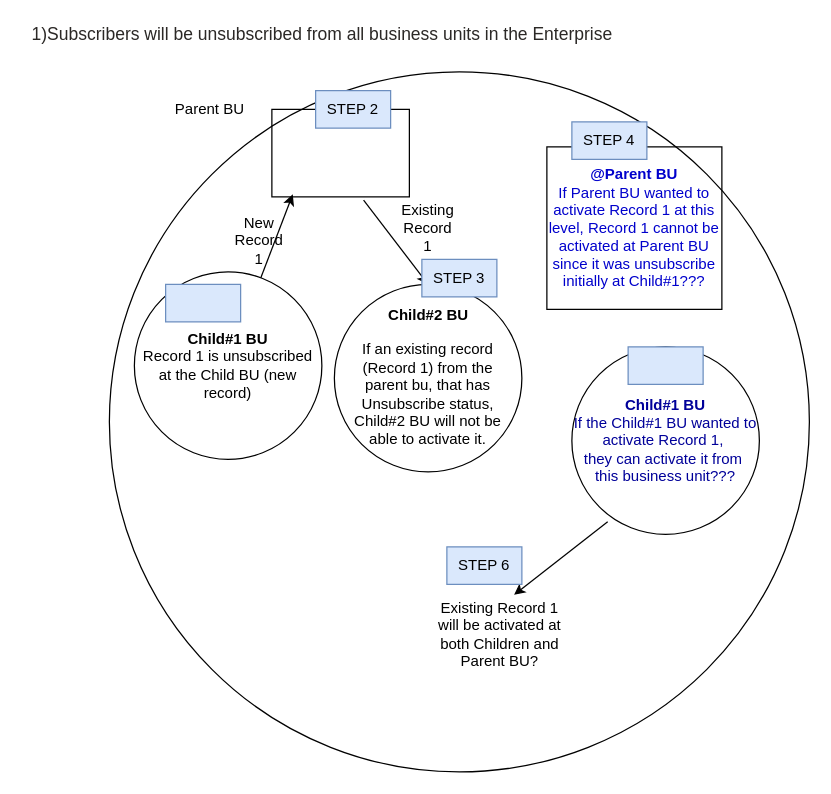
The diagram is 831 pixels wide and 794 high, and some of its shapes have lost their labels. The shapes that lost their labels are listed below. From the top down, each one's box as (x1, y1, x2, y2) in pixels, then its label:
(271, 108, 409, 197): Record 1 will be Unsubscribed at the Parent BU
(164, 283, 241, 322): STEP 1
(627, 346, 703, 384): STEP 5
